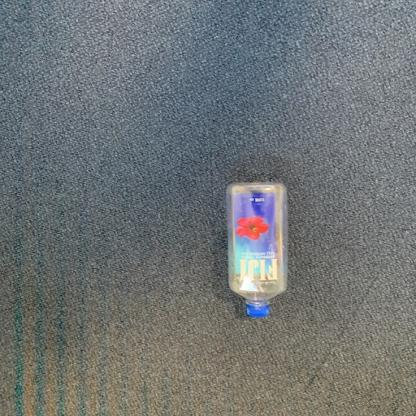trash: (225, 181, 289, 321)
